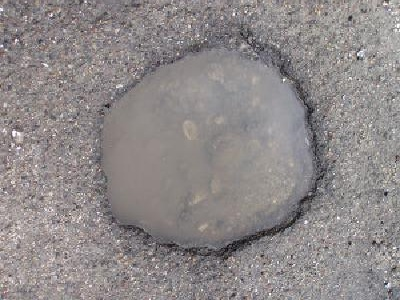pothole: (93, 28, 327, 261)
